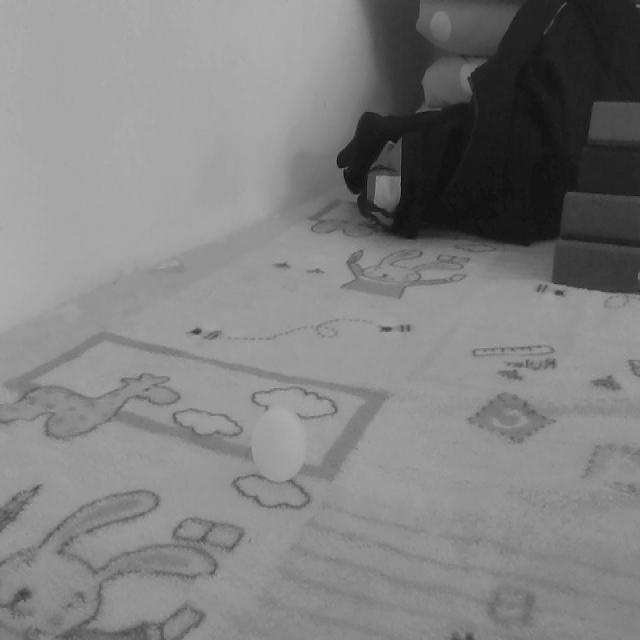ping-pong-ball: (252, 412, 306, 482)
